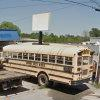Bus: (4, 39, 93, 91)
